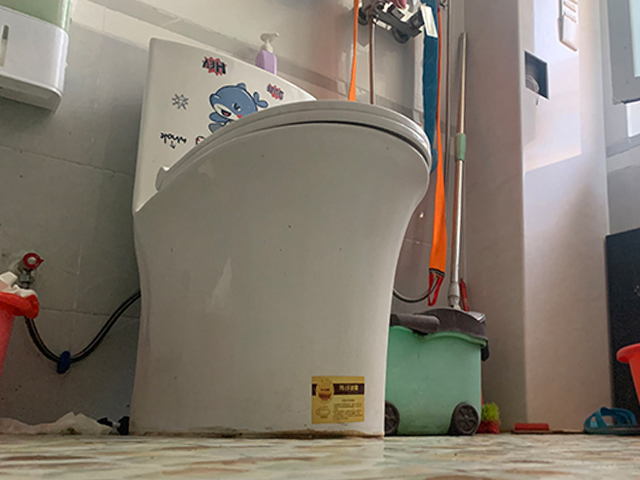closestool: (128, 37, 432, 439)
slippers: (583, 406, 640, 439)
